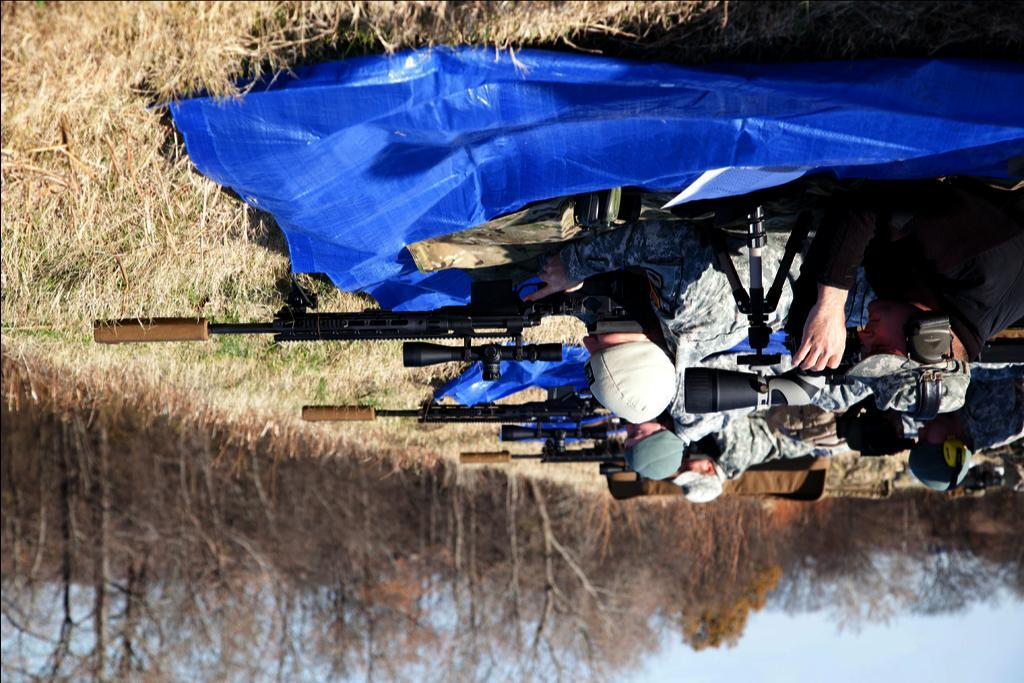gun: (77, 293, 581, 370), (292, 392, 604, 428), (456, 440, 628, 475)
